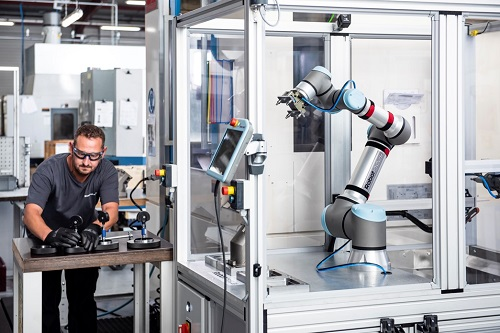person: (22, 125, 120, 252)
robot: (275, 65, 413, 275)
